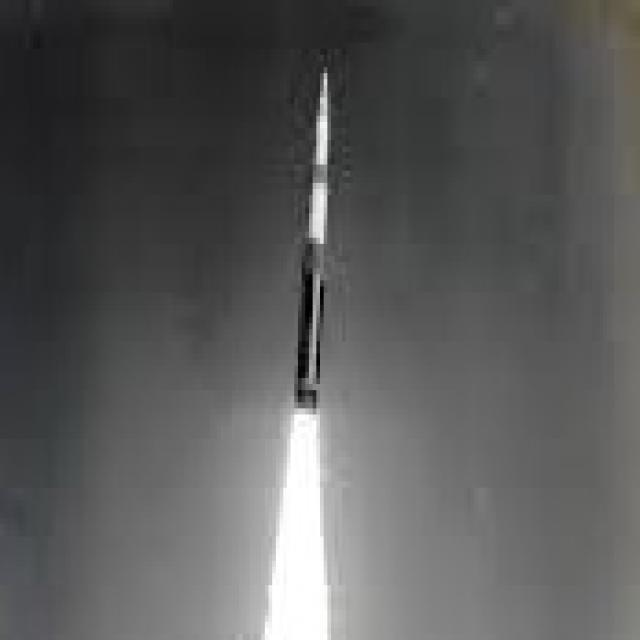missile: (292, 68, 346, 412)
